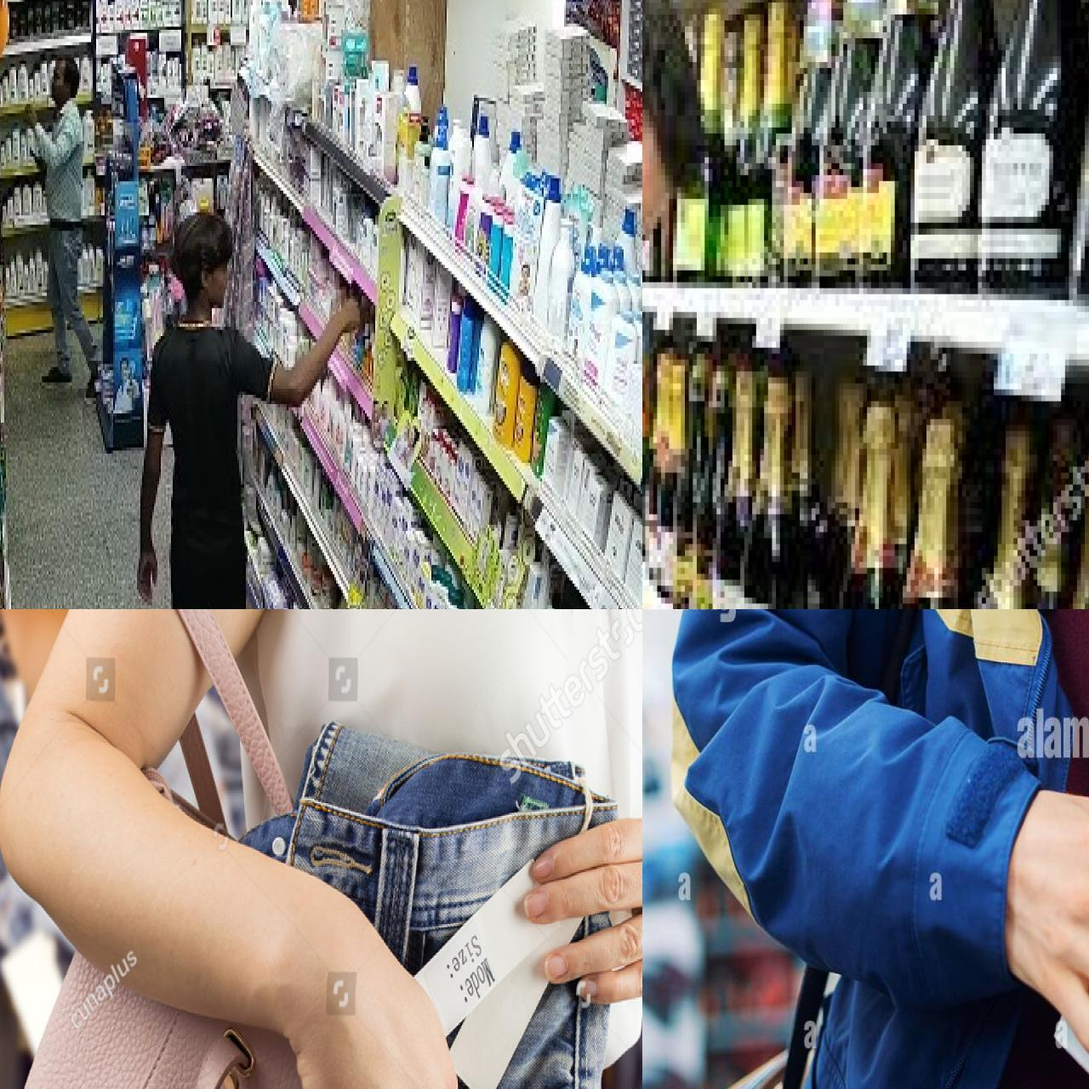shoplifting: (0, 610, 642, 1089)
